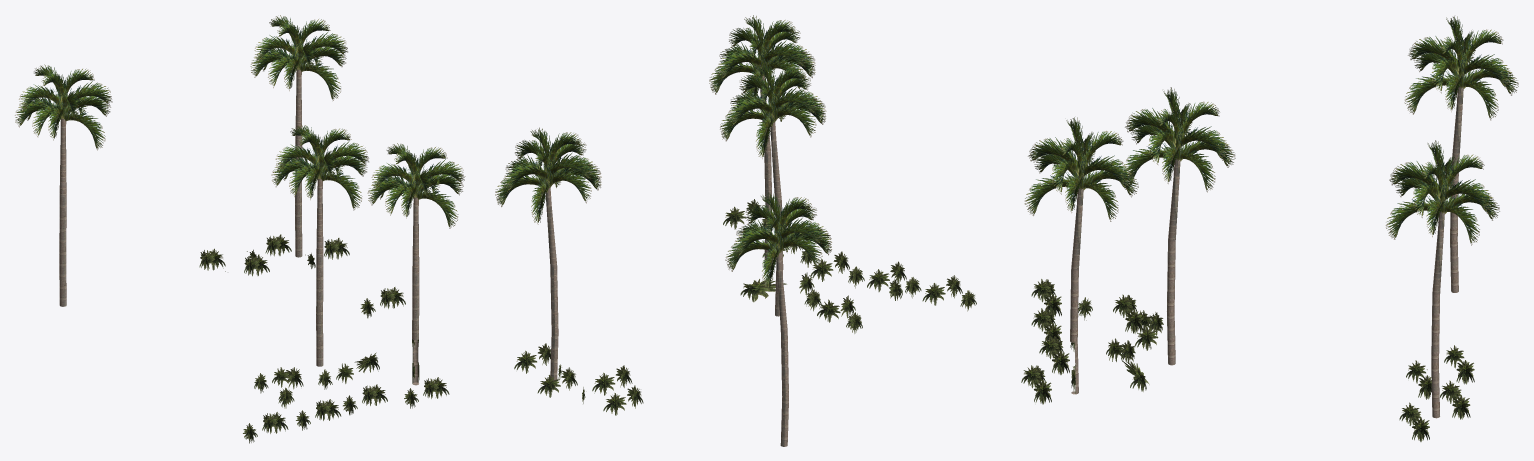
File: nature.glb
The picture shows the model from 3 angles, left to right: view 1: azimuth 30°, elevation 25°; view 2: azimuth 150°, elevation 25°; view 3: azimuth 270°, elevation 25°; orthographic projection. The views are drawn at different scales.
Visible parts, largest first — view 1: Plants; view 2: Plants; view 3: Plants.
Part boxes in pixels (<box>): Plants: <box>15,15,465,443</box>; Plants: <box>495,15,976,446</box>; Plants: <box>1021,16,1518,441</box>.
Size of the model in its own units: 12.47 by 9.27 by 15.46.
Materials: 3 (3 with a texture image).
